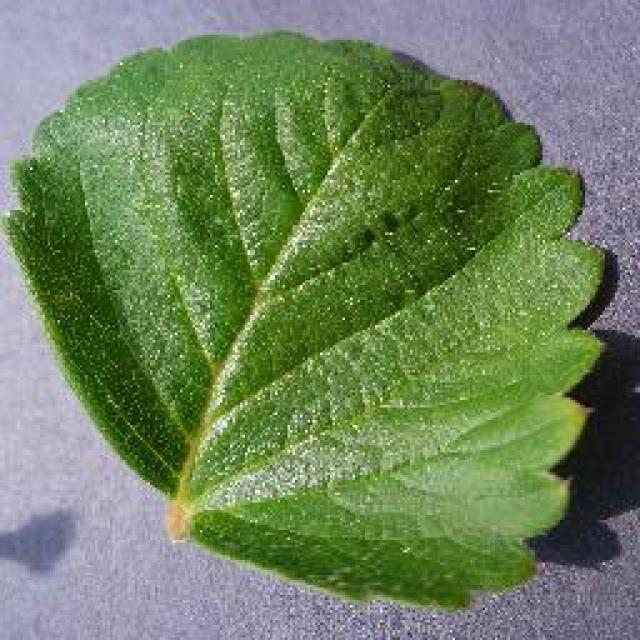Straw_healthy: (70, 31, 534, 529)
